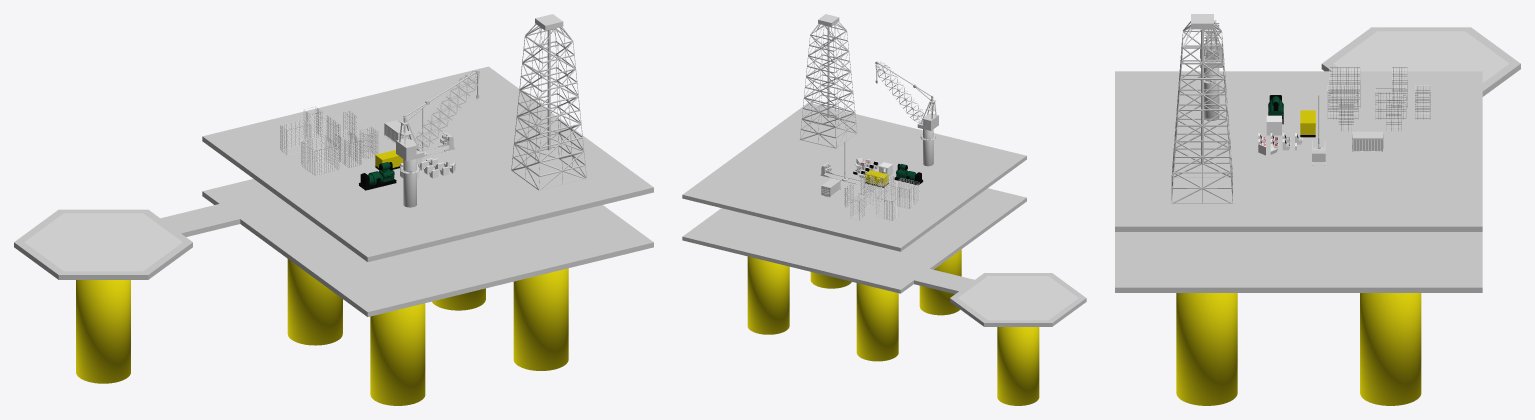
The model's file is OilRigPlatformDetailing.fbx.
3 views of the same model, side by side, from view 1: azimuth 30°, elevation 25°; view 2: azimuth 150°, elevation 25°; view 3: azimuth 270°, elevation 25° (orthographic). The views are drawn at different scales.
Parts seen in each view (by area): view 1: Floor2, Floor1, Hellipad, HellipadLeg, TowerWireframe, Leg2, Leg3, Leg4, Cube, Scaffolding3, Arm, Leg1 (+3 smaller); view 2: Floor2, Floor1, Hellipad, TowerWireframe, HellipadLeg, Leg4, Leg1, Leg2, Cube, Scaffolding3, Arm, Leg3 (+3 smaller); view 3: Floor2, Floor1, Hellipad, Leg3, Leg1, TowerWireframe, Scaffolding2, Scaffolding3, Scaffolding2UWide, BaseTower, Scaffolding3U, Scaffolding2U (+4 smaller).
Boxes of the visible parts, left/top/right/bottom form: Floor2: left=202, top=66, right=653, bottom=261; Floor1: left=202, top=179, right=653, bottom=316; Hellipad: left=14, top=209, right=192, bottom=279; HellipadLeg: left=76, top=280, right=130, bottom=383; TowerWireframe: left=511, top=24, right=586, bottom=190; Leg2: left=370, top=303, right=425, bottom=405; Leg3: left=513, top=268, right=568, bottom=370; Leg4: left=287, top=259, right=342, bottom=345; Cube: left=160, top=204, right=240, bottom=236; Scaffolding3: left=301, top=135, right=339, bottom=175; Arm: left=415, top=70, right=479, bottom=151; Leg1: left=432, top=288, right=485, bottom=310; Floor2: left=682, top=102, right=1026, bottom=251; Floor1: left=682, top=188, right=1026, bottom=293; Hellipad: left=950, top=273, right=1086, bottom=326; TowerWireframe: left=799, top=21, right=857, bottom=148; HellipadLeg: left=997, top=327, right=1039, bottom=405; Leg4: left=856, top=283, right=898, bottom=361; Leg1: left=747, top=256, right=789, bottom=334; Leg2: left=919, top=249, right=961, bottom=315; Cube: left=914, top=269, right=974, bottom=293; Scaffolding3: left=891, top=178, right=919, bottom=208; Arm: left=875, top=61, right=923, bottom=123; Leg3: left=810, top=272, right=851, bottom=288; Floor2: left=1115, top=71, right=1482, bottom=231; Floor1: left=1115, top=232, right=1482, bottom=292; Hellipad: left=1321, top=27, right=1520, bottom=96; Leg3: left=1176, top=293, right=1237, bottom=405; Leg1: left=1360, top=293, right=1421, bottom=405; TowerWireframe: left=1171, top=21, right=1233, bottom=203; Scaffolding2: left=1327, top=85, right=1358, bottom=119; Scaffolding3: left=1329, top=67, right=1360, bottom=107; Scaffolding2UWide: left=1375, top=88, right=1406, bottom=119; BaseTower: left=1204, top=68, right=1219, bottom=120; Scaffolding3U: left=1392, top=67, right=1407, bottom=107; Scaffolding2U: left=1415, top=85, right=1430, bottom=119.
Bounding box in the file's own units: 40229 × 27200 × 26500.
